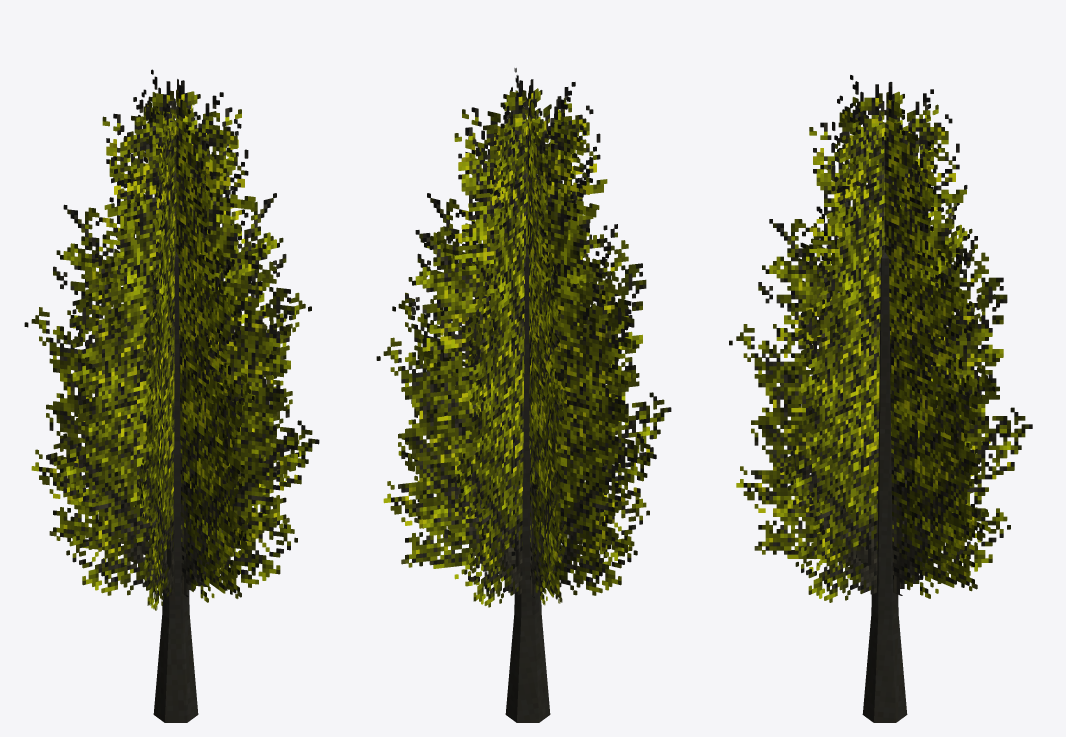
Rendered from trees3.glb.
The picture shows the model from 3 angles, left to right: view 1: azimuth 30°, elevation 25°; view 2: azimuth 150°, elevation 25°; view 3: azimuth 270°, elevation 25°; orthographic projection.
Parts seen in each view (by area): view 1: tree13; view 2: tree13; view 3: tree13.
Part boxes in pixels (x1,y1,x2,y2): tree13: (24,69,319,722); tree13: (376,68,671,722); tree13: (729,75,1032,722).
Size of the model in its own units: 6 by 12.5 by 6.
1 material, 1 textured.
